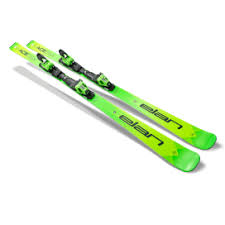skis: (10, 41, 217, 173)
